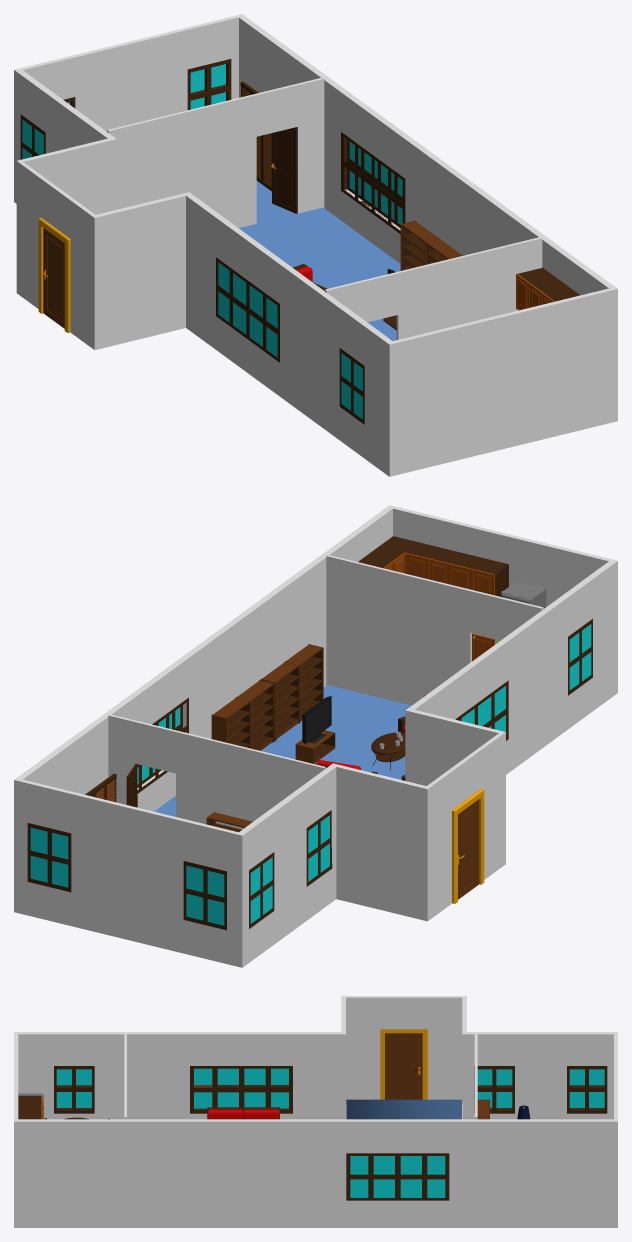
File: LowPolyHouse.fbx
The picture shows the model from 3 angles, top to bottom: view 1: azimuth 30°, elevation 25°; view 2: azimuth 150°, elevation 25°; view 3: azimuth 270°, elevation 25°; orthographic projection. The views are drawn at different scales.
Visible parts, largest first — view 1: Cube, pCube60.001, pCube60, pCube194, WindowFrame, Glass, pCube108.002, Cube.002, pCube193, Cube.001, pCube132; view 2: Cube, pCube60, pCube60.001, Glass, WindowFrame, pCube194, pCube192, pCube193, pCube132, Cube.002, Cube.001, pCube189 (+2 smaller); view 3: Cube, Glass, WindowFrame, Cube.002, pCube194, Cube.001, pCube132, pCube112, pCube113, pCube60.001.
Boxes of the visible parts, box(x1,y1,x2,y2) form: Cube: box(14, 14, 617, 476); pCube60.001: box(107, 77, 324, 227); pCube60: box(325, 237, 542, 339); pCube194: box(239, 181, 400, 340); WindowFrame: box(20, 59, 405, 424); Glass: box(22, 64, 402, 419); pCube108.002: box(271, 127, 297, 213); Cube.002: box(43, 228, 64, 328); pCube193: box(400, 220, 463, 270); Cube.001: box(38, 217, 70, 332); pCube132: box(518, 267, 579, 301); Cube: box(14, 505, 617, 967); pCube60: box(326, 555, 543, 705); pCube60.001: box(108, 714, 325, 829); Glass: box(30, 624, 591, 925); WindowFrame: box(27, 619, 592, 930); pCube194: box(154, 685, 411, 816); pCube192: box(260, 644, 323, 740); pCube193: box(211, 680, 274, 750); pCube132: box(358, 536, 508, 596); Cube.002: box(458, 799, 479, 899); Cube.001: box(452, 788, 484, 903); pCube189: box(302, 696, 331, 744); Cube: box(14, 996, 617, 1227); Glass: box(56, 1068, 604, 1197); WindowFrame: box(54, 1066, 607, 1200); Cube.002: box(385, 1033, 422, 1099); pCube194: box(346, 1099, 461, 1119); Cube.001: box(380, 1029, 427, 1099); pCube132: box(18, 1095, 41, 1119); pCube112: box(243, 1109, 279, 1119); pCube113: box(207, 1109, 242, 1119); pCube60.001: box(474, 1032, 477, 1119).
Size of the model in its own units: 56.55 by 22.5 by 114.
